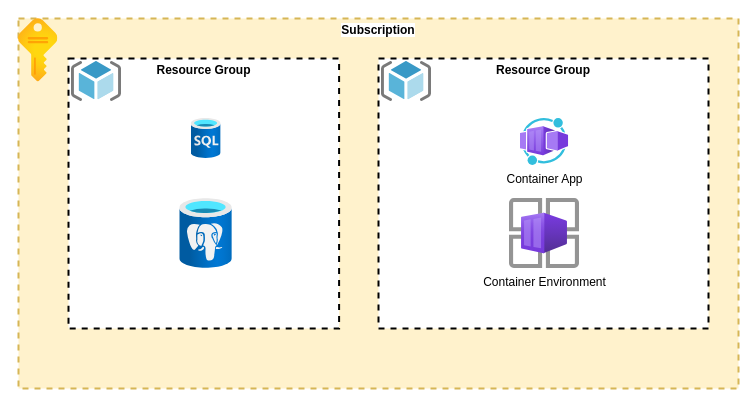
This 756x406 diagram has some shape labels left out. Each missing label, with the box of its shape:
database: (191, 118, 221, 158)
PostgreSQL Server: (179, 198, 232, 268)
